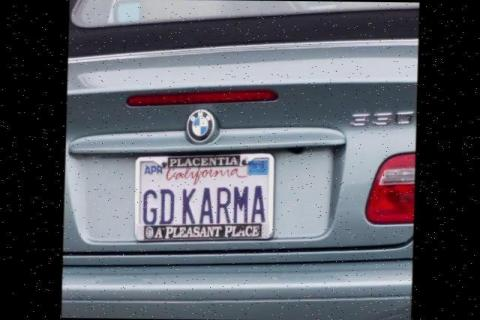LicensePlate: (131, 145, 283, 251)
